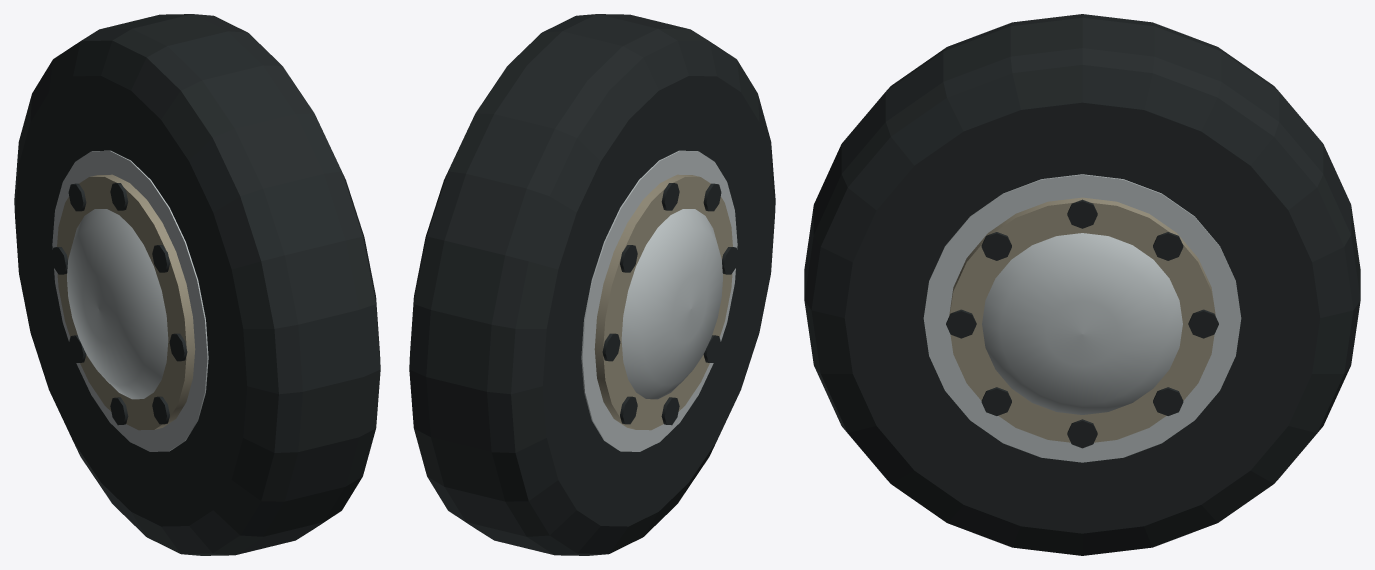
The model's file is vaz_2106_wheel.glb.
3 views of the same model, side by side, from view 1: azimuth 30°, elevation 25°; view 2: azimuth 150°, elevation 25°; view 3: azimuth 270°, elevation 25° (orthographic). The views are drawn at different scales.
Parts seen in each view (by area): view 1: vaz_2106_wheel; view 2: vaz_2106_wheel; view 3: vaz_2106_wheel.
Boxes of the visible parts, left/top/right/bottom form: vaz_2106_wheel: left=14, top=14, right=380, bottom=555; vaz_2106_wheel: left=409, top=14, right=775, bottom=555; vaz_2106_wheel: left=804, top=14, right=1360, bottom=555.
Size of the model in its own units: 0.26 by 0.62 by 0.62.
